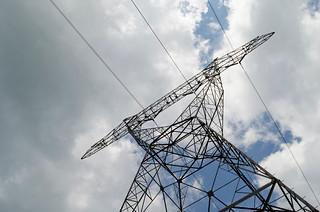power_tower: (87, 19, 308, 212)
